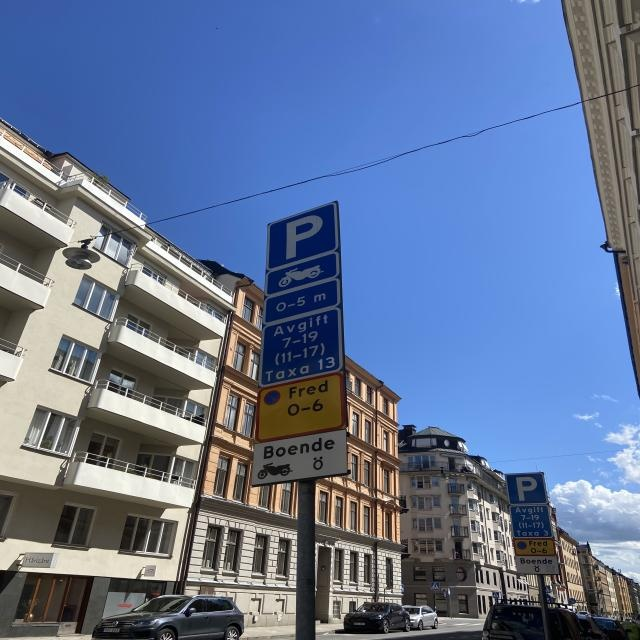P-skylt: (266, 199, 340, 272)
